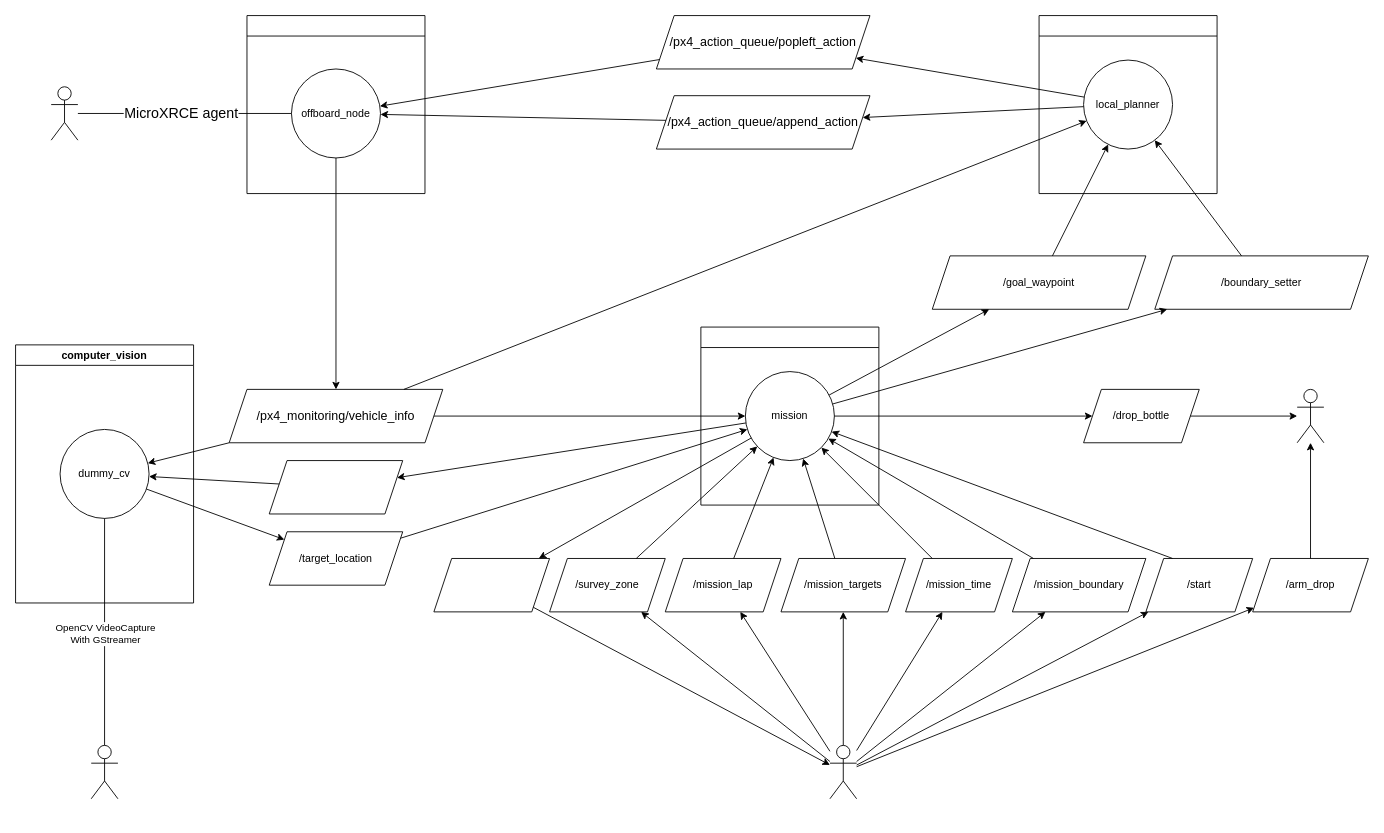
Some shapes in this 1384 by 833 pixel diagram are drawn without their labels. The shapes that lost their labels are listed below. From the top down, each one's box as (x1, y1, x2, y2) in pixels, then its label:
(50, 86, 78, 140): Flight Controller
(246, 15, 425, 194): px4_offboard_control
(1038, 15, 1217, 194): path_planner
(700, 326, 879, 505): mission_manager
(1296, 388, 1324, 443): Airdrop Controller
(268, 460, 403, 514): /current_target
(433, 558, 550, 612): /mission_status
(90, 744, 118, 799): Camera
(829, 744, 857, 799): Ground Station Operator (User)
